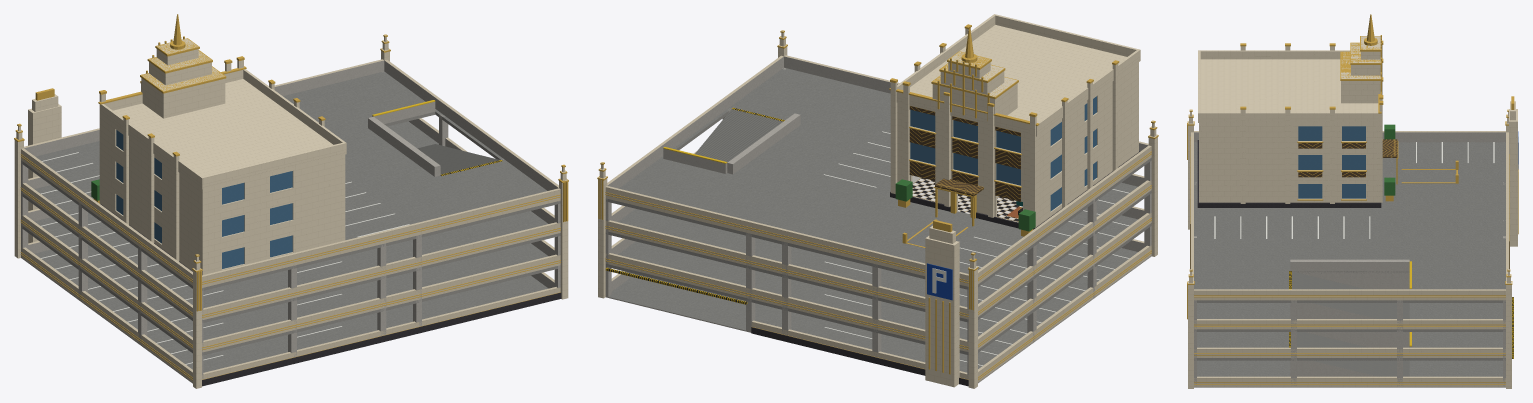
File: parking_garage.glb
3 views of the same model, side by side, from view 1: azimuth 30°, elevation 25°; view 2: azimuth 150°, elevation 25°; view 3: azimuth 270°, elevation 25° (orthographic). The views are drawn at different scales.
Visible parts, largest first — view 1: parking_garage; view 2: parking_garage; view 3: parking_garage.
Boxes of the visible parts, left/top/right/bottom form: parking_garage: left=14, top=14, right=568, bottom=388; parking_garage: left=597, top=14, right=1158, bottom=388; parking_garage: left=1187, top=14, right=1518, bottom=388.
Size of the model in its own units: 38.7 by 27.7 by 33.4.
23 materials, 23 textured.
